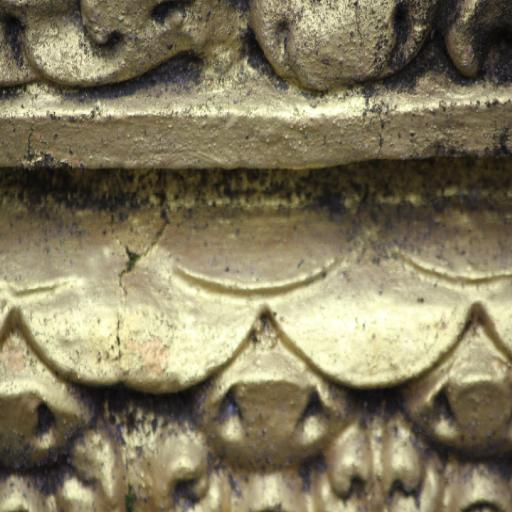la: (124, 332, 378, 512), (379, 332, 512, 512), (0, 331, 124, 511)
